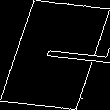L_W: (8, 35, 102, 75)
